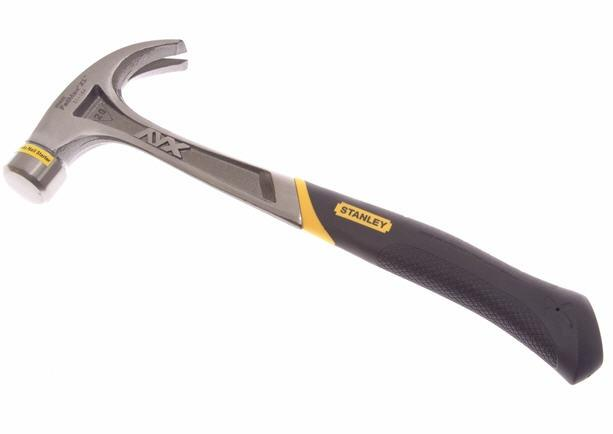hammer: (0, 36, 604, 386)
